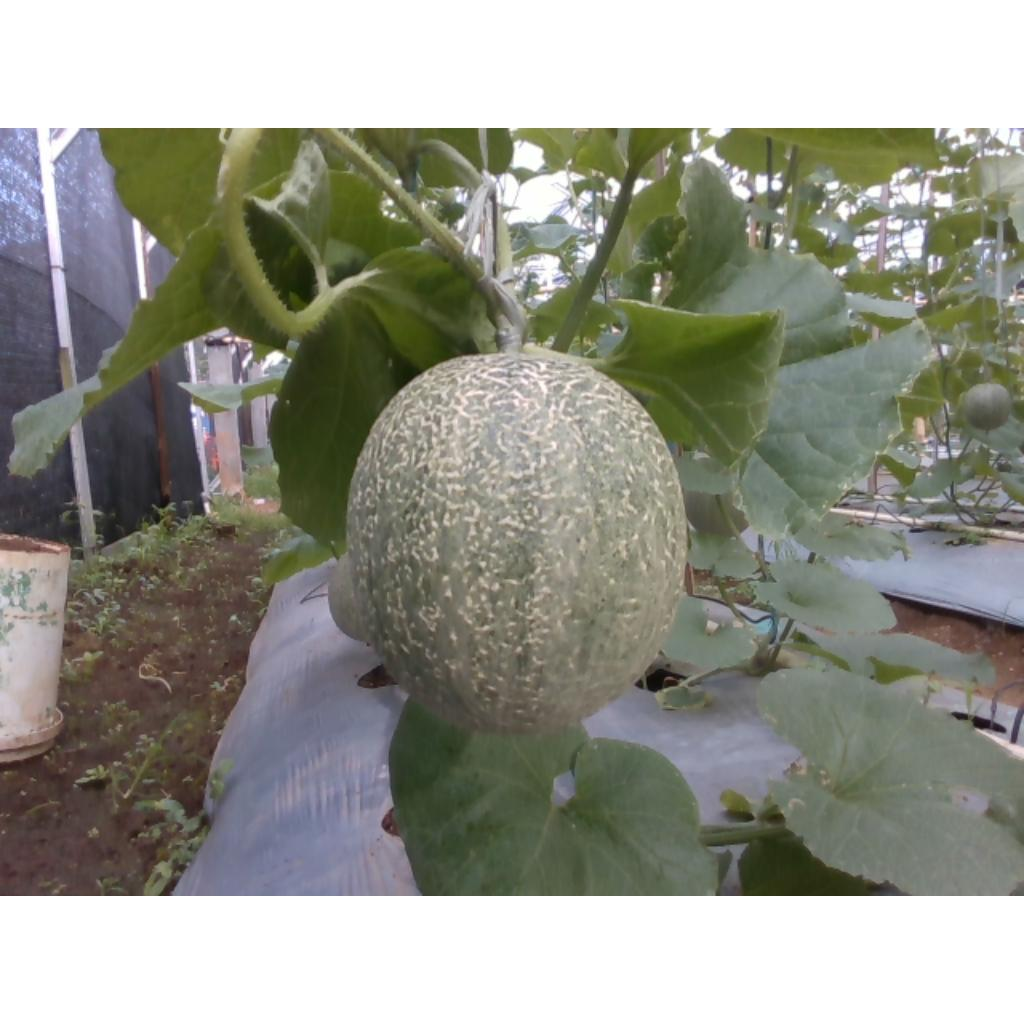melon: (347, 352, 688, 734)
